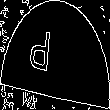P_S: (43, 27, 67, 83)
